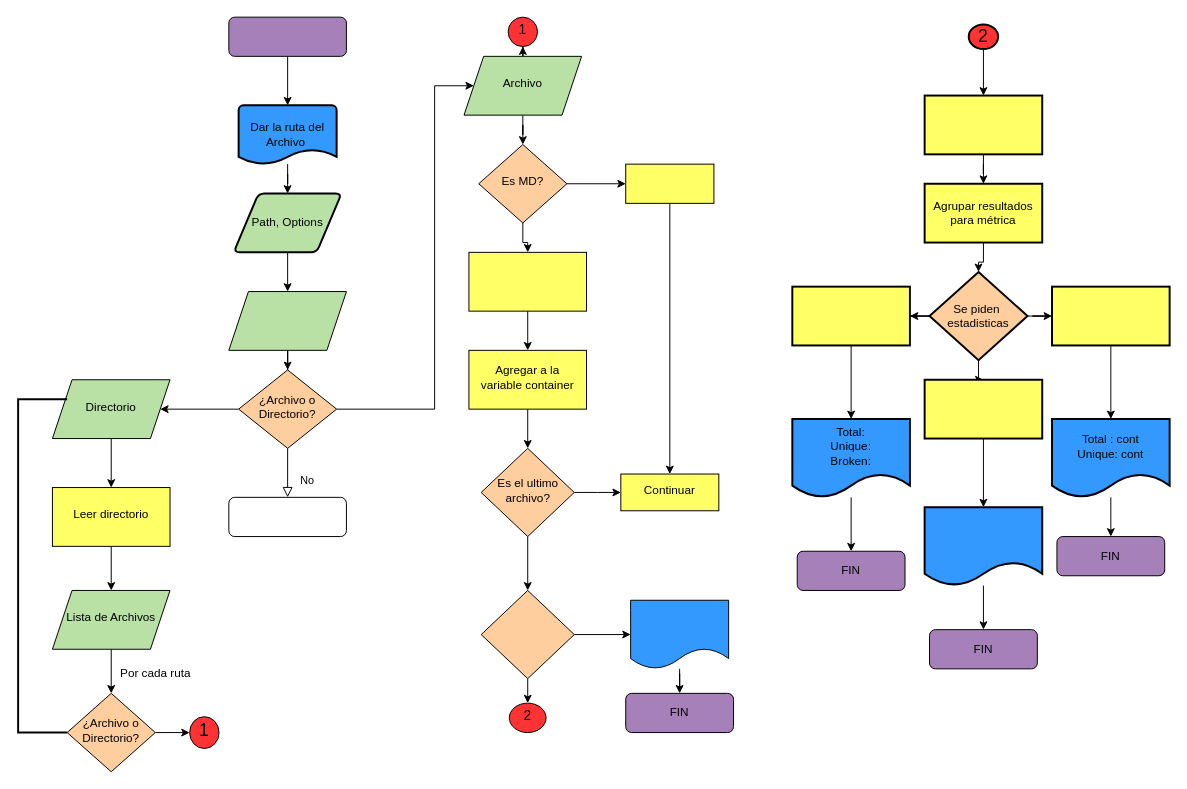
This 1187x789 diagram has some shape labels left out. The shapes that lost their labels are listed below. From the top down, each one's centre as x and y in pixels, then its label:
the point at 287,36: INICIO
the point at 983,124: Evaluar si es valido o no
the point at 669,183: Error
the point at 527,281: Extraer links dentro del Archivo
the point at 287,320: Variable container
the point at 850,315: Stats Validate
the point at 1110,315: Stats
the point at 983,408: Validate
the point at 287,516: Repair Lamp
the point at 983,546: URL : OK URL : FAIL
the point at 527,634: Tiene Options?
the point at 679,634: let container = [{href, text, file}]
